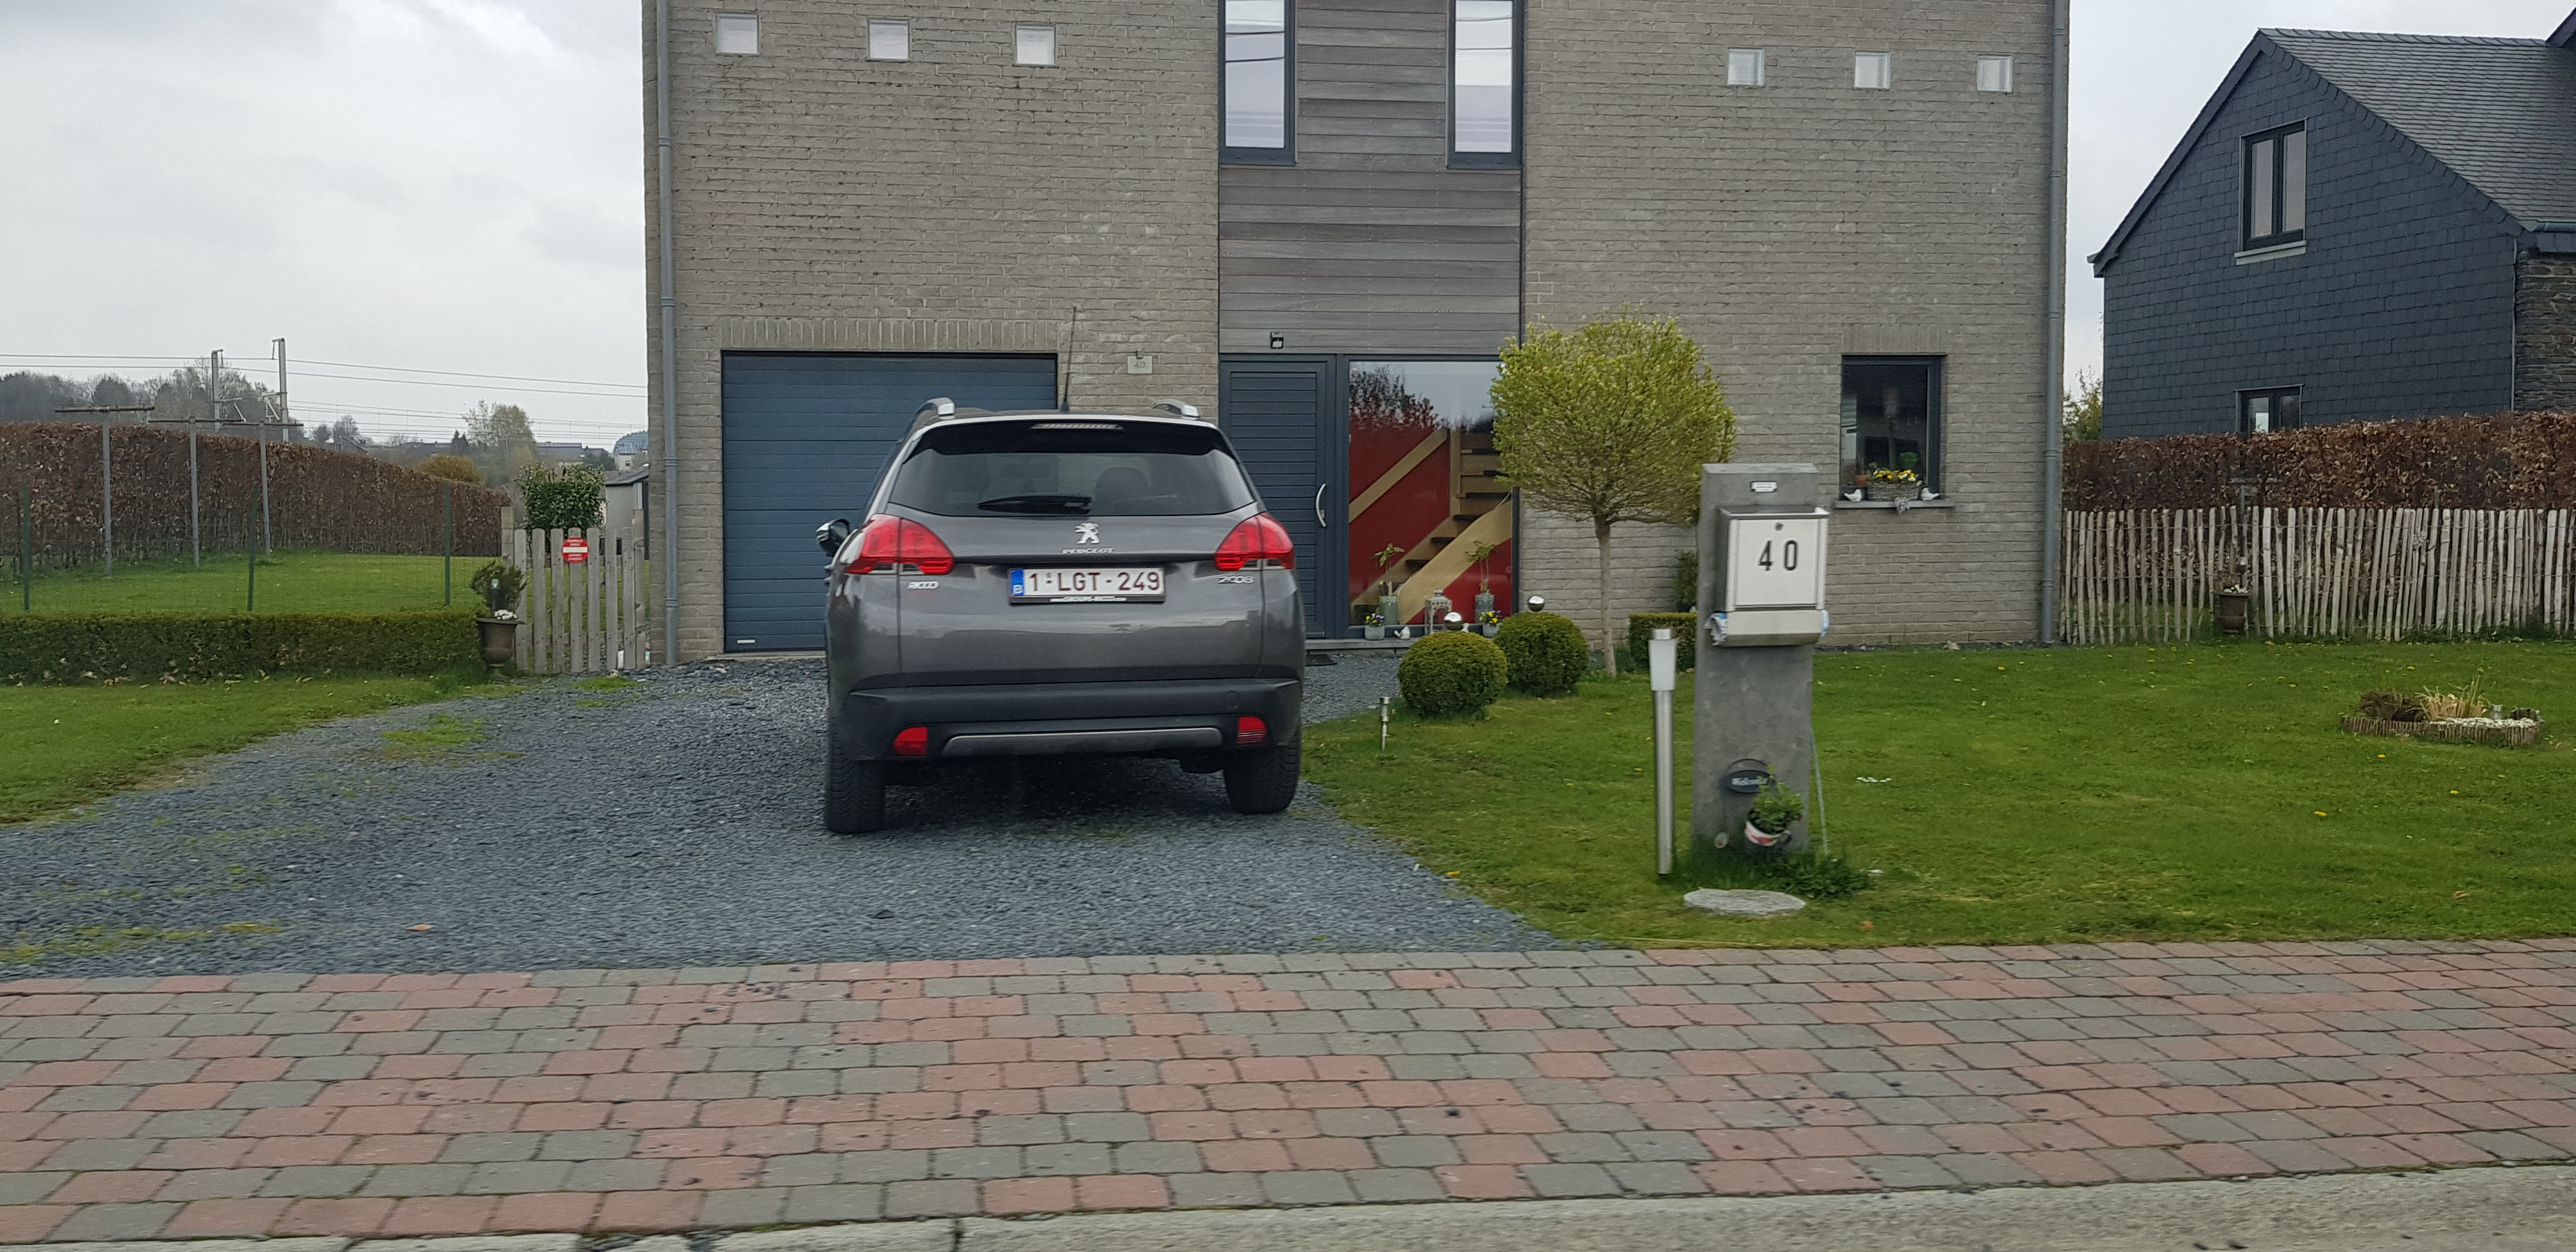licenceplate: (1008, 565, 1164, 596)
